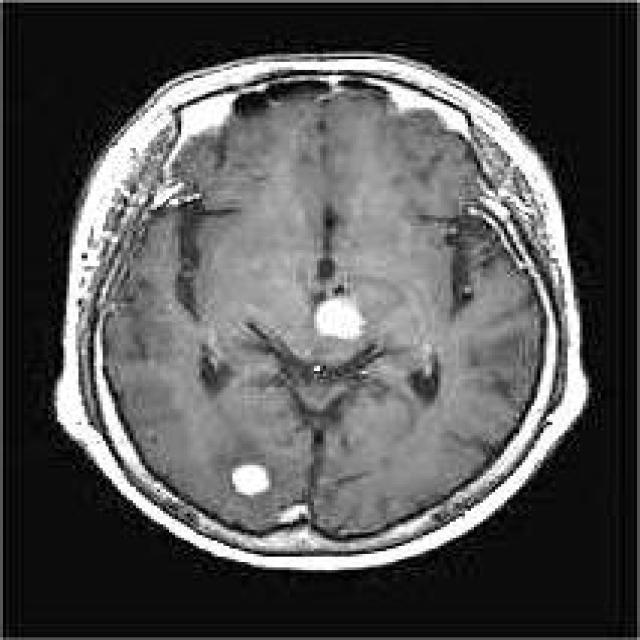notumor: (54, 54, 589, 573)
